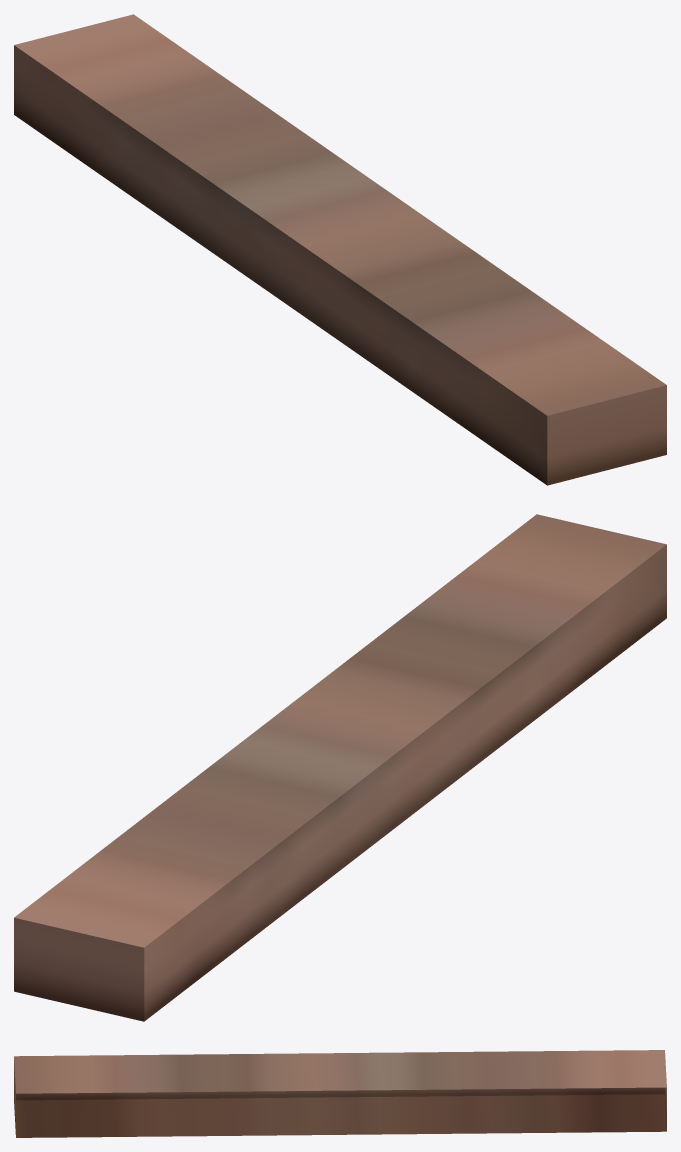
File: object_638_lev3.glb
3 views of the same model, one above another, from view 1: azimuth 30°, elevation 25°; view 2: azimuth 150°, elevation 25°; view 3: azimuth 270°, elevation 25° (orthographic). The views are drawn at different scales.
Visible parts, largest first — view 1: object_638_lev3; view 2: object_638_lev3; view 3: object_638_lev3.
Boxes of the visible parts, <box> form: object_638_lev3: <box>14,14,666,485</box>; object_638_lev3: <box>14,514,666,1021</box>; object_638_lev3: <box>14,1050,666,1137</box>.
Size of the model in its own units: 0.2426 by 0.1144 by 1.53.
1 material, 1 textured.
